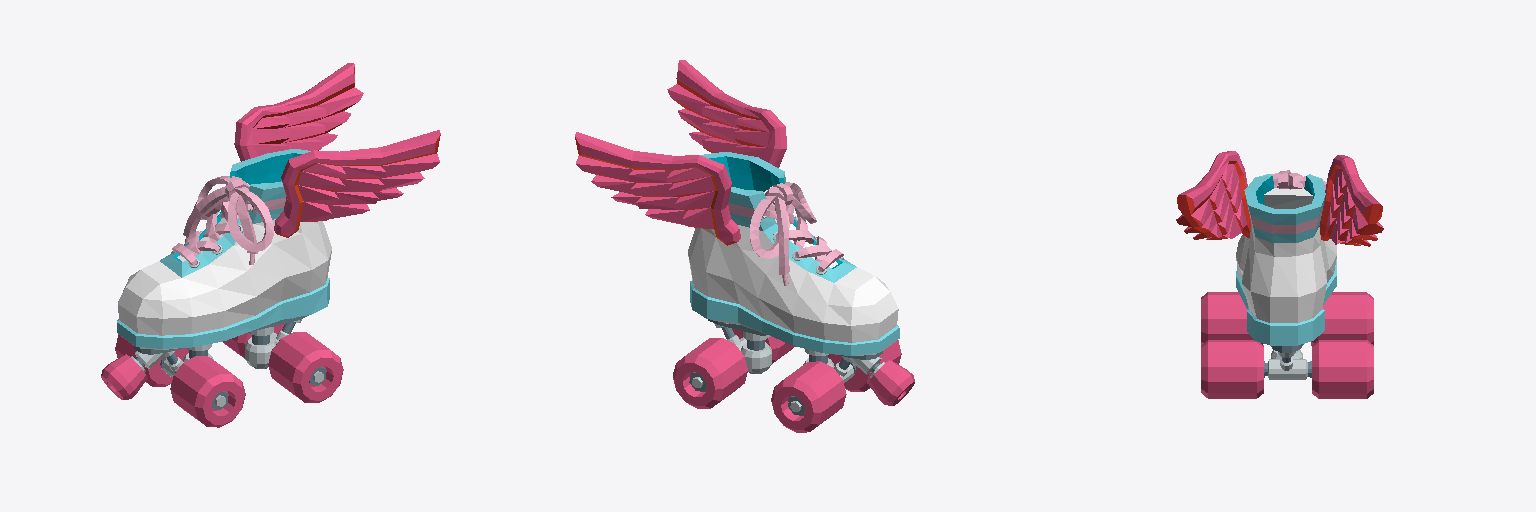
File: model-triangulated.obj
3 views of the same model, side by side, from view 1: azimuth 30°, elevation 25°; view 2: azimuth 150°, elevation 25°; view 3: azimuth 270°, elevation 25° (orthographic).
Visible parts, largest first — view 1: group[number redacted], group[number redacted], group[number redacted], group[number redacted], group[number redacted], group[number redacted], group[number redacted], group[number redacted], group[number redacted], group[number redacted], group[number redacted]; view 2: group[number redacted], group[number redacted], group[number redacted], group[number redacted], group[number redacted], group[number redacted], group[number redacted], group[number redacted], group[number redacted], group[number redacted]; view 3: group[number redacted], group[number redacted], group[number redacted], group[number redacted], group[number redacted], group[number redacted].
Boxes of the visible parts, <box> form: group[number redacted]: <box>117,149,331,348</box>; group[number redacted]: <box>274,130,440,237</box>; group[number redacted]: <box>234,63,363,161</box>; group[number redacted]: <box>223,324,343,402</box>; group[number redacted]: <box>170,356,245,427</box>; group[number redacted]: <box>101,351,166,399</box>; group[number redacted]: <box>228,187,273,251</box>; group[number redacted]: <box>245,327,275,368</box>; group[number redacted]: <box>115,334,188,386</box>; group[number redacted]: <box>183,186,226,244</box>; group[number redacted]: <box>237,195,257,264</box>; group[number redacted]: <box>688,152,899,355</box>; group[number redacted]: <box>575,132,740,245</box>; group[number redacted]: <box>667,60,786,167</box>; group[number redacted]: <box>673,329,795,408</box>; group[number redacted]: <box>771,361,846,432</box>; group[number redacted]: <box>849,357,914,405</box>; group[number redacted]: <box>741,331,771,373</box>; group[number redacted]: <box>828,340,901,391</box>; group[number redacted]: <box>750,196,789,258</box>; group[number redacted]: <box>775,197,789,285</box>; group[number redacted]: <box>1236,174,1336,345</box>; group[number redacted]: <box>1201,340,1373,398</box>; group[number redacted]: <box>1176,151,1250,239</box>; group[number redacted]: <box>1319,155,1383,246</box>; group[number redacted]: <box>1311,292,1373,345</box>; group[number redacted]: <box>1201,292,1262,345</box>.
Bounding box in the file's own units: 2.4 × 1.99 × 1.47.